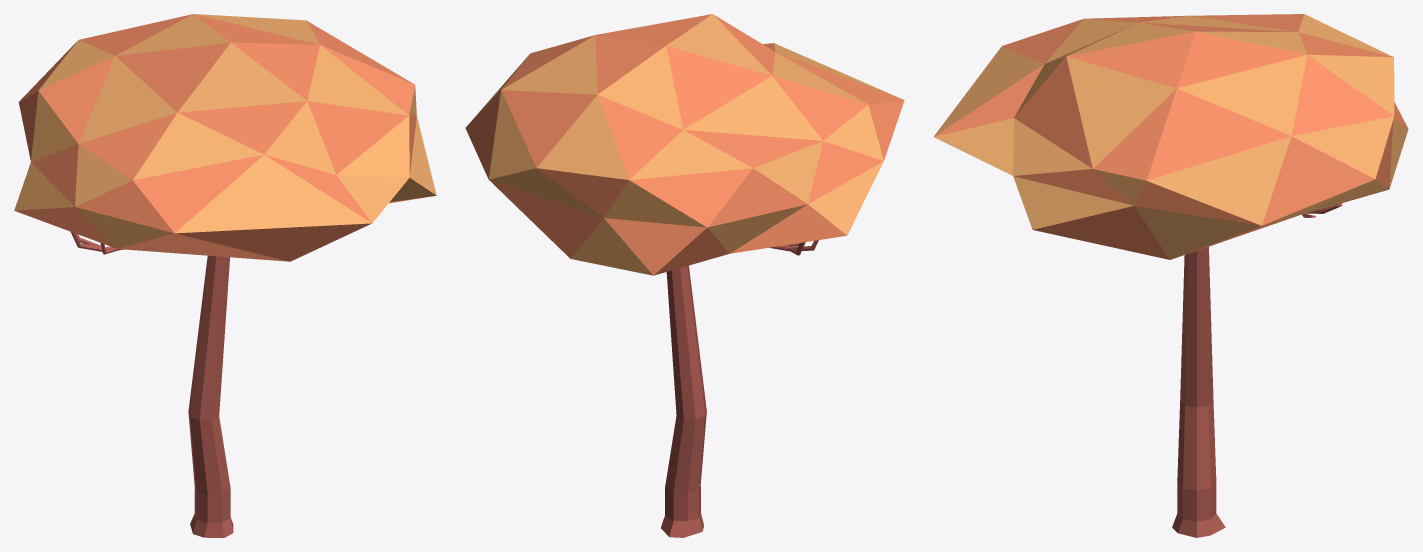
The model's file is Tree4_autumn.FBX.
3 views of the same model, side by side, from view 1: azimuth 30°, elevation 25°; view 2: azimuth 150°, elevation 25°; view 3: azimuth 270°, elevation 25° (orthographic). The views are drawn at different scales.
Visible parts, largest first — view 1: tree5.002; view 2: tree5.002; view 3: tree5.002.
Part boxes in pixels (x1,y1,x2,y2): tree5.002: [14, 14, 436, 537]; tree5.002: [465, 14, 904, 537]; tree5.002: [933, 14, 1408, 537].
Size of the model in its own units: 5.69 by 7.07 by 6.03.
